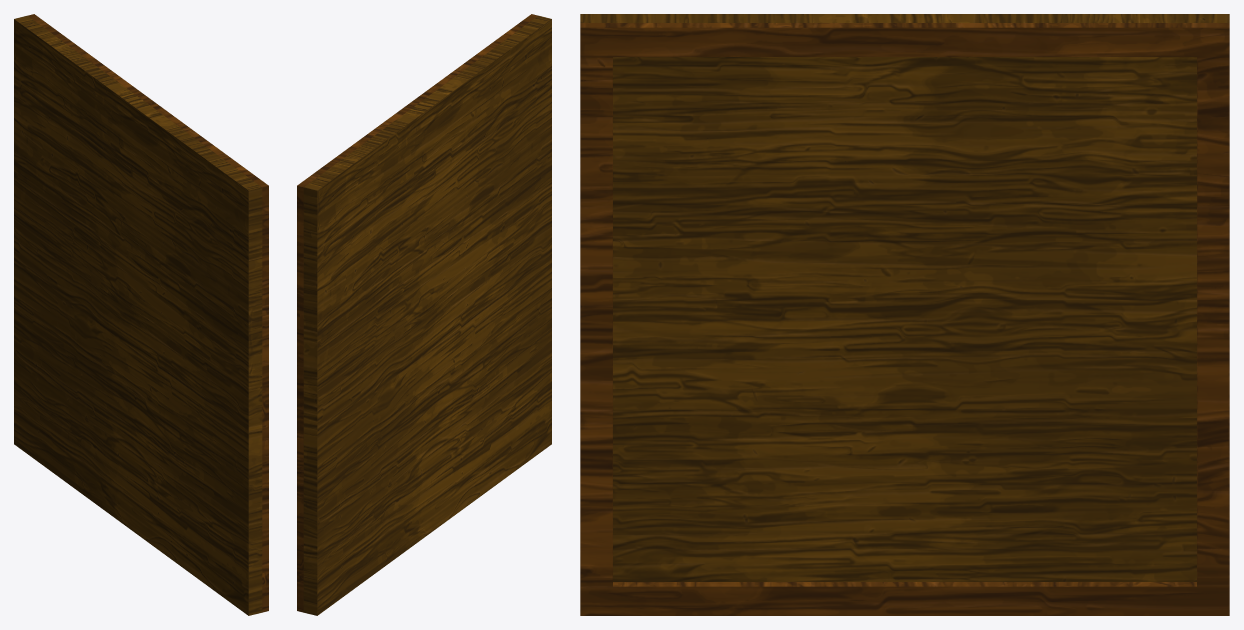
Rendered from C_CrateSides_S03.fbx.
3 renders of one model, left to right at view 1: azimuth 30°, elevation 25°; view 2: azimuth 150°, elevation 25°; view 3: azimuth 270°, elevation 25°, orthographic. The views are drawn at different scales.
Visible parts, largest first — view 1: CrateBack_Small, CrateEdge_Small; view 2: CrateBack_Small, CrateEdge_Small; view 3: CrateBack_Small, CrateEdge_Small.
Part boxes in pixels (x1=…): CrateBack_Small: x1=14, y1=15, x2=262, y2=615; CrateEdge_Small: x1=28, y1=14, x2=268, y2=612; CrateBack_Small: x1=303, y1=15, x2=551, y2=615; CrateEdge_Small: x1=297, y1=14, x2=537, y2=612; CrateBack_Small: x1=580, y1=14, x2=1229, y2=581; CrateEdge_Small: x1=580, y1=23, x2=1229, y2=615.
Bounding box in the file's own units: 0.15 × 3 × 3.
